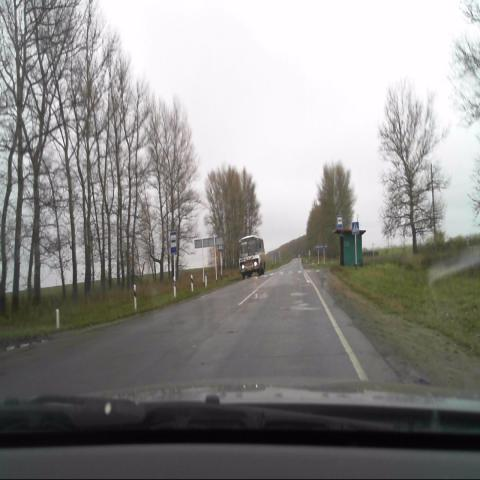5_16: (169, 231, 177, 254), (337, 215, 343, 231)
5_19_1: (352, 221, 360, 234)
